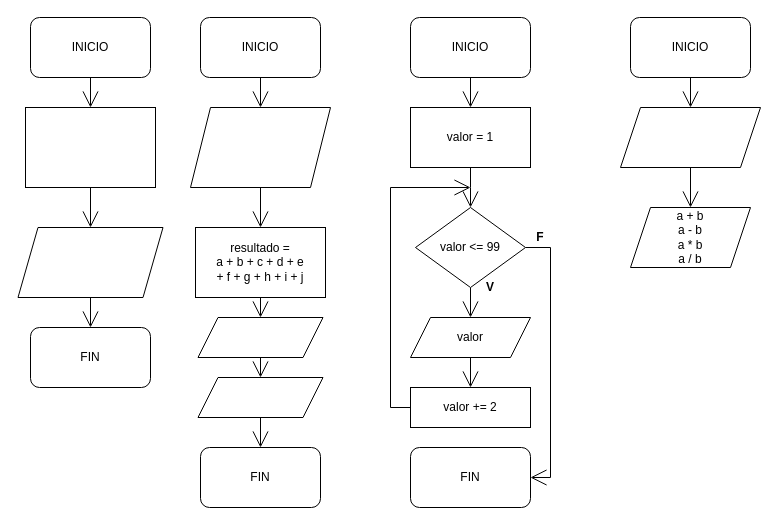
Some shapes in this 778 by 525 pixel diagram are drawn without their labels. Here are the shapes that lost their labels. From the top down, the centre of each, then its label:
pixel 90 147: a = 1 f = 6 b = 2 g = 7 c = 3 h = 8 d= 4 i = 9 e = 5 j = 10
pixel 260 147: "Introduce 10 valores para 10 datos"
pixel 690 137: "Introduce 2 números"
pixel 90 262: a + b + c + d + e + f + g + h + i + j
pixel 260 337: resultado
pixel 260 397: resultado / 10
